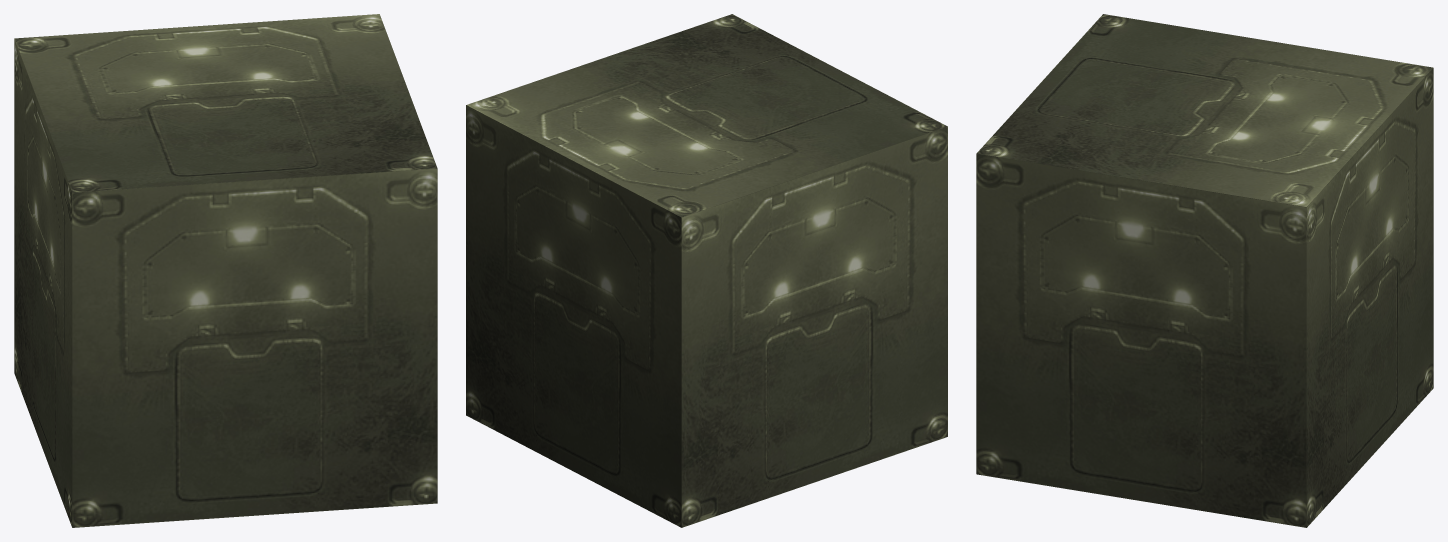
Rendered from CubeBox.fbx.
3 views of the same model, side by side, from view 1: azimuth 30°, elevation 25°; view 2: azimuth 150°, elevation 25°; view 3: azimuth 270°, elevation 25° (orthographic). The views are drawn at different scales.
Parts seen in each view (by area): view 1: Cube.065; view 2: Cube.065; view 3: Cube.065.
Part boxes in pixels (box(x1,y1,x2,y2)): Cube.065: box(14, 14, 437, 527); Cube.065: box(466, 14, 947, 527); Cube.065: box(976, 14, 1433, 527).
Bounding box in the file's own units: 6.07 × 4.69 × 6.07.
